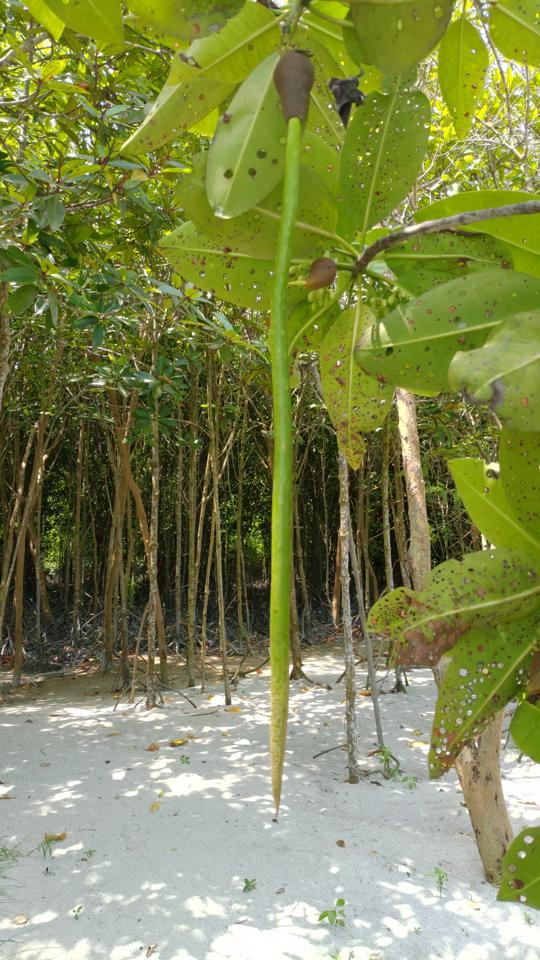mentah: (243, 21, 334, 840)
